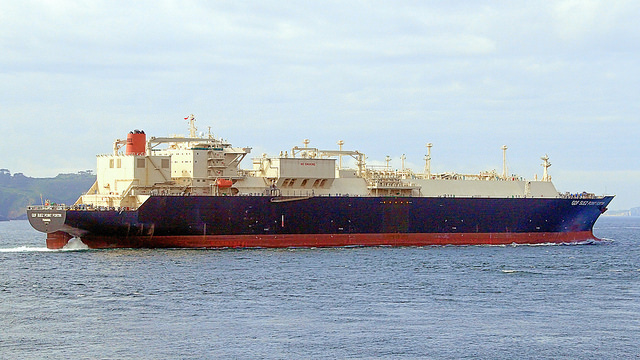LNG_ship: (25, 113, 615, 245)
